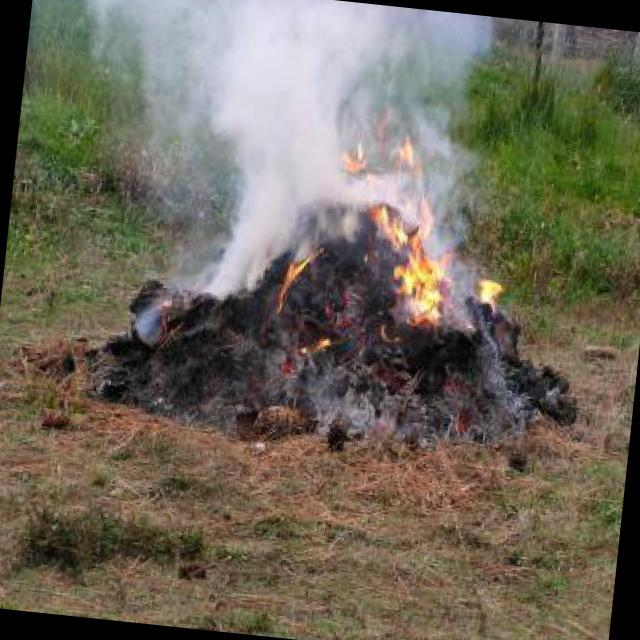Fire: (323, 133, 461, 327), (270, 236, 327, 322), (466, 260, 517, 330)
Smoke: (36, 0, 484, 325)
